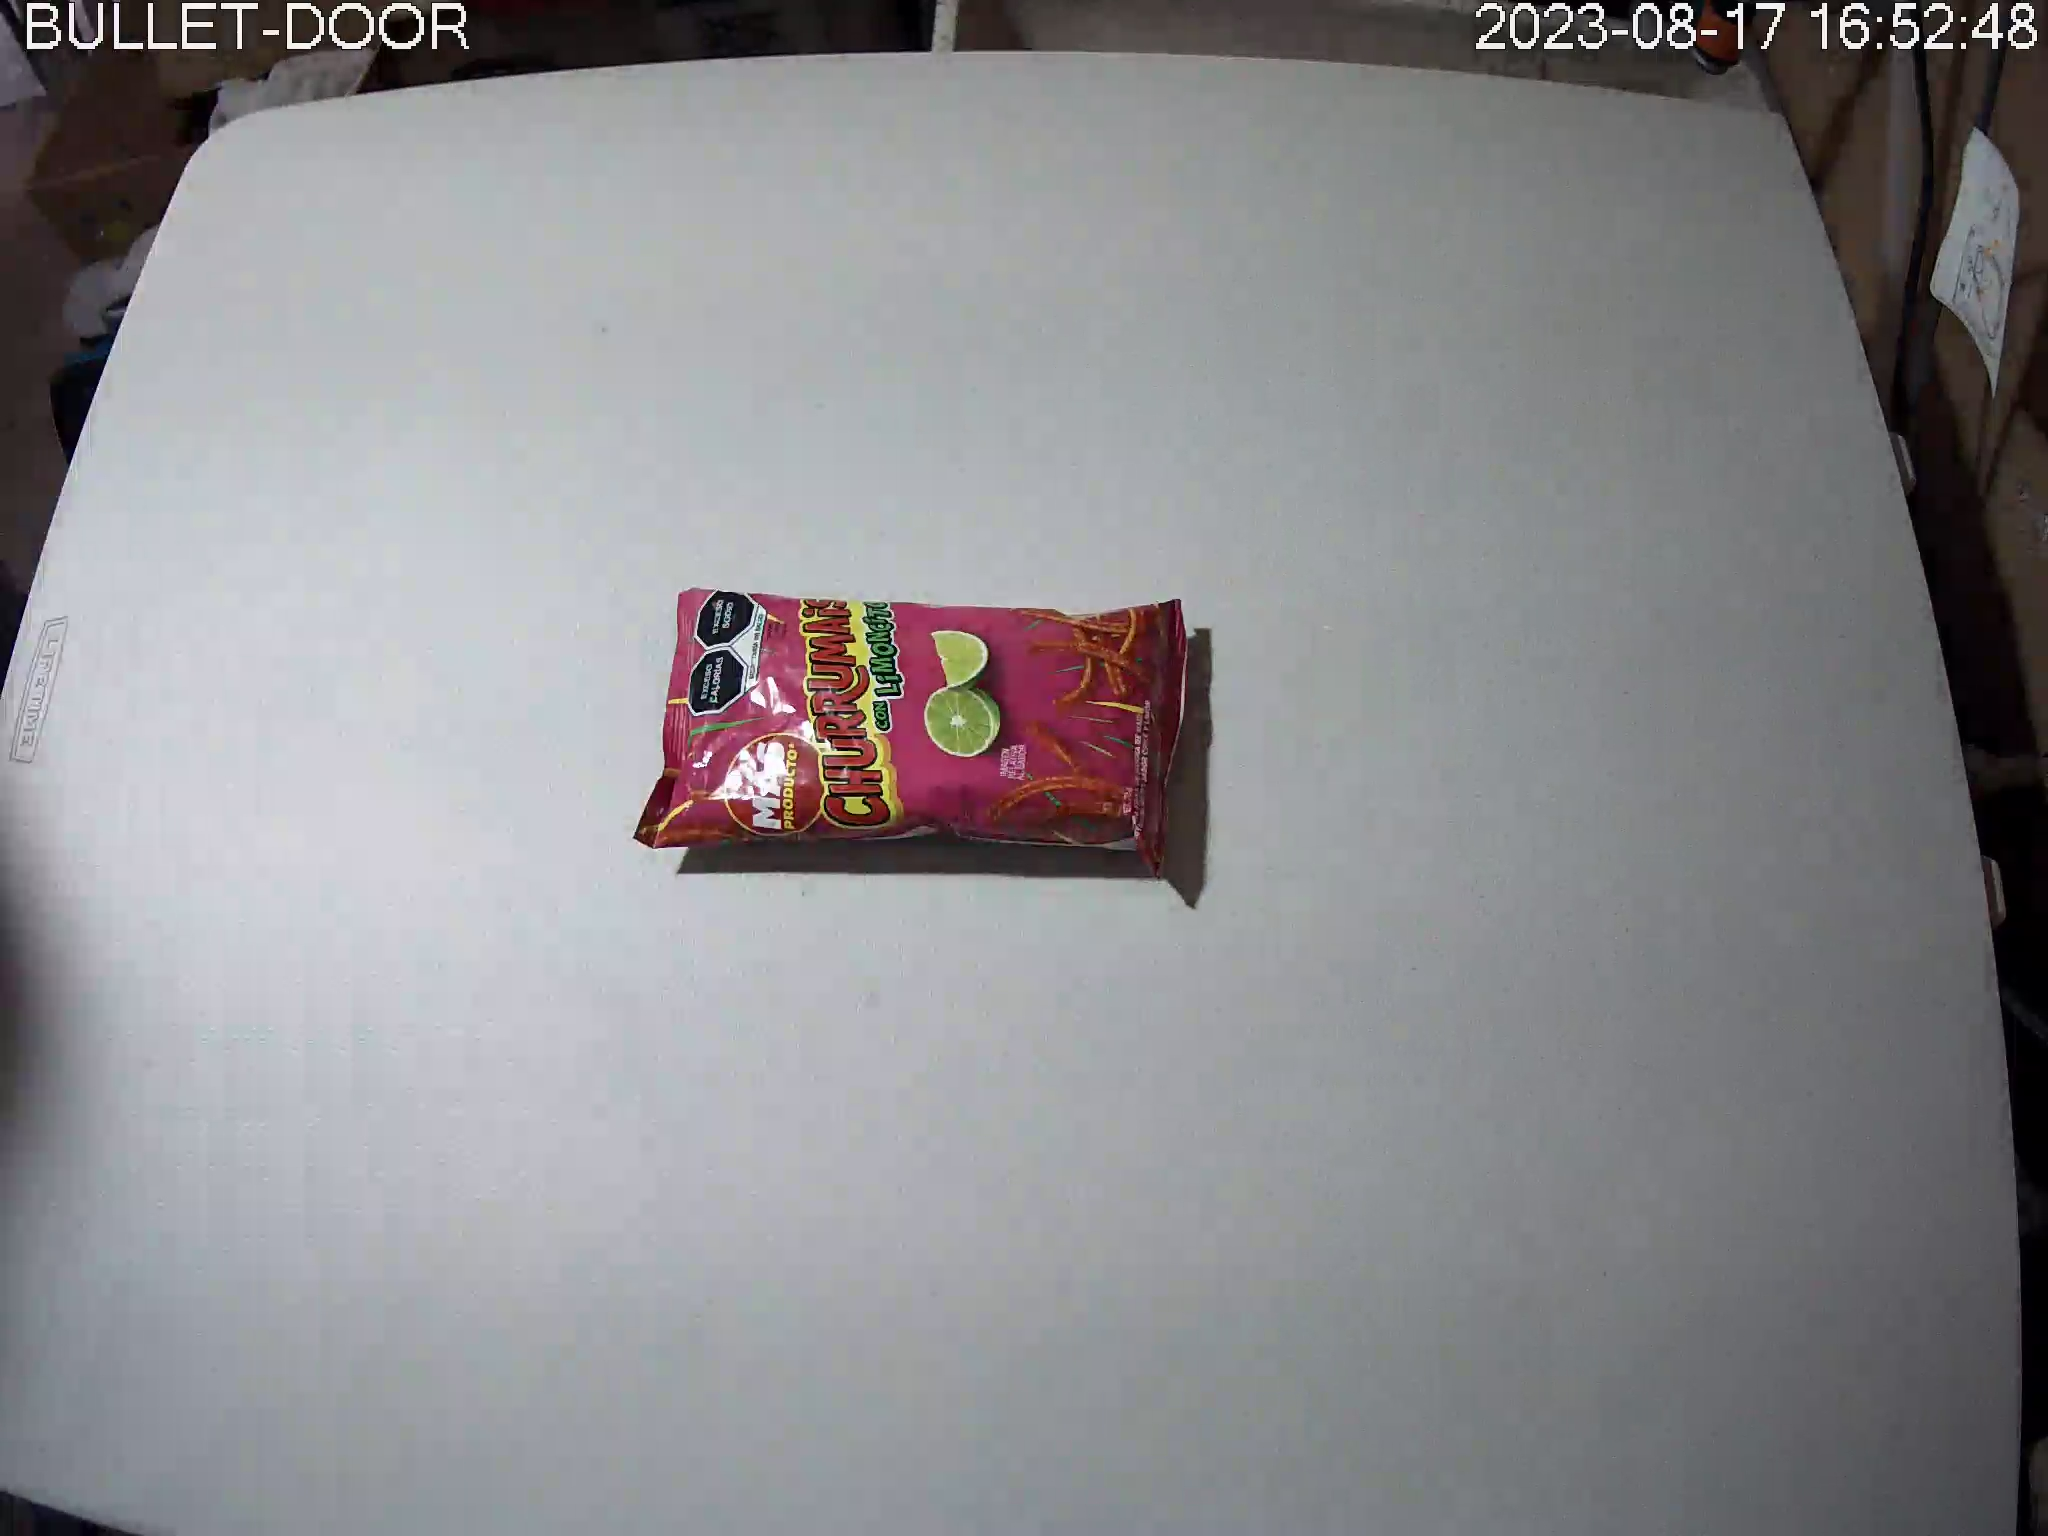Churrumais_70_F: (634, 589, 1192, 883)
